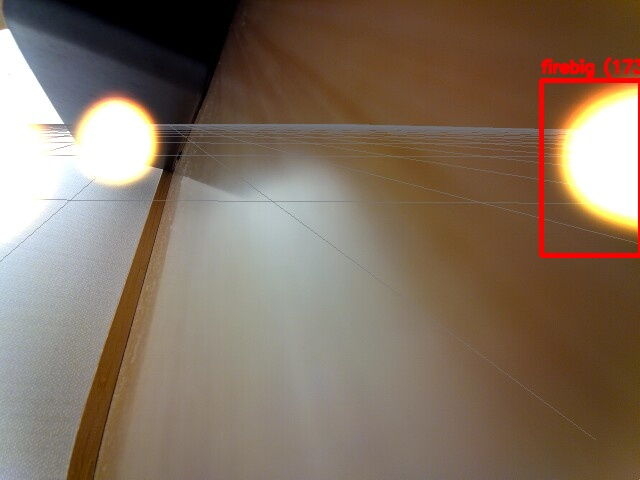firebig: (541, 80, 640, 255)
